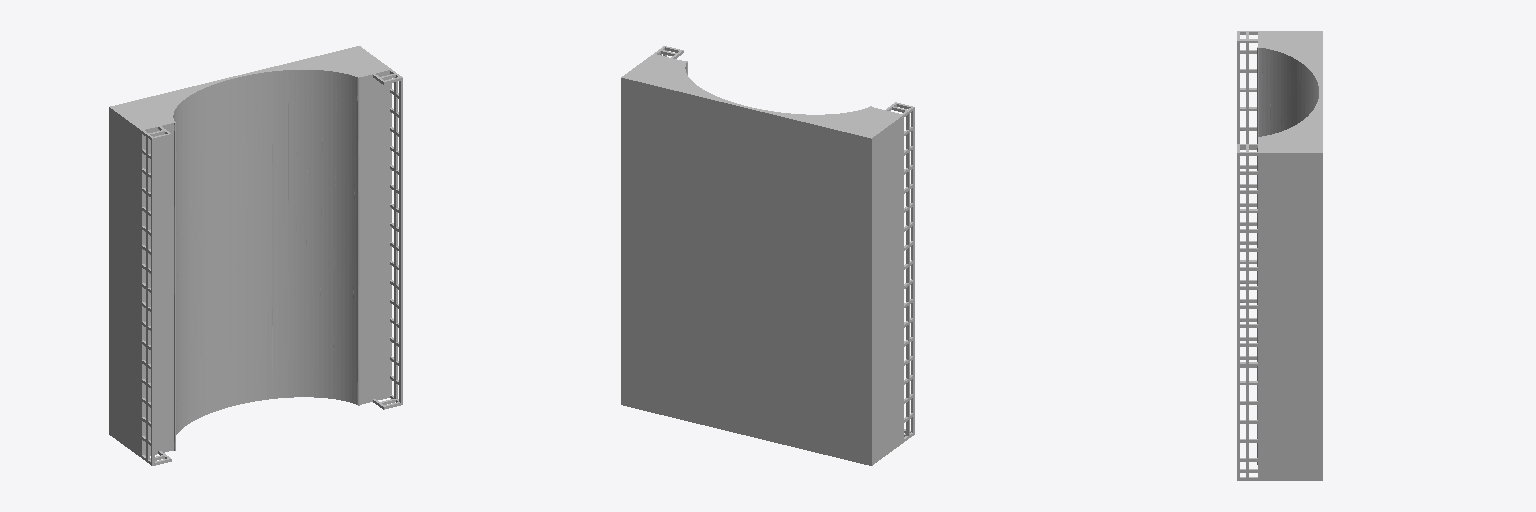
File: KC Halfpipe (Mega).obj
3 views of the same model, side by side, from view 1: azimuth 30°, elevation 25°; view 2: azimuth 150°, elevation 25°; view 3: azimuth 270°, elevation 25° (orthographic).
Parts seen in each view (by area): view 1: Object.5, Object.3, Object.4, Object.2, Object.1; view 2: Object.5, Object.3; view 3: Object.5, Object.4, Object.3.
Boxes of the visible parts, x1,y1,x2,y2 form: Object.5: [109, 46, 391, 457]; Object.3: [142, 126, 171, 465]; Object.4: [373, 70, 402, 409]; Object.2: [357, 78, 359, 405]; Object.1: [174, 122, 175, 450]; Object.5: [621, 54, 903, 465]; Object.3: [886, 102, 914, 441]; Object.5: [1258, 31, 1322, 480]; Object.4: [1237, 144, 1257, 480]; Object.3: [1237, 31, 1257, 367].
Bounding box in the file's own units: 1016 × 1270 × 305.